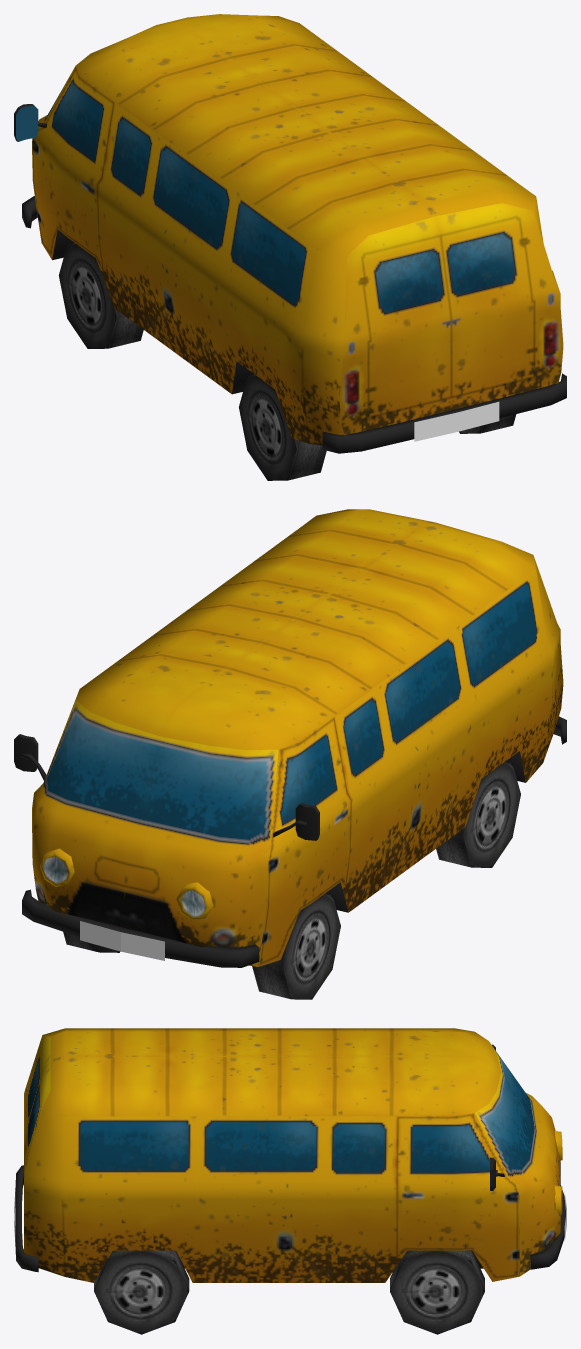
File: uaz-452.glb
3 renders of one model, top to bottom at view 1: azimuth 30°, elevation 25°; view 2: azimuth 150°, elevation 25°; view 3: azimuth 270°, elevation 25°, orthographic. The views are drawn at different scales.
Parts seen in each view (by area): view 1: Vehicle_uaz-452.006, Vehicle_uaz-452.002, Vehicle_uaz-452, Vehicle_uaz-452.005; view 2: Vehicle_uaz-452.006, Vehicle_uaz-452, Vehicle_uaz-452.002, Vehicle_uaz-452.004; view 3: Vehicle_uaz-452.006, Vehicle_uaz-452.001, Vehicle_uaz-452.003.
Part boxes in pixels (x1,y1,x2,y2): Vehicle_uaz-452.006: [14, 14, 566, 453]; Vehicle_uaz-452.002: [239, 374, 326, 480]; Vehicle_uaz-452: [59, 243, 143, 348]; Vehicle_uaz-452.005: [414, 401, 499, 441]; Vehicle_uaz-452.006: [14, 509, 566, 967]; Vehicle_uaz-452: [252, 893, 340, 999]; Vehicle_uaz-452.002: [436, 761, 520, 867]; Vehicle_uaz-452.004: [80, 921, 164, 960]; Vehicle_uaz-452.006: [15, 1028, 565, 1282]; Vehicle_uaz-452.001: [390, 1250, 484, 1334]; Vehicle_uaz-452.003: [94, 1250, 189, 1334].
Size of the model in its own units: 2.28 by 2.03 by 4.37.
Materials: 4 (3 with a texture image).
